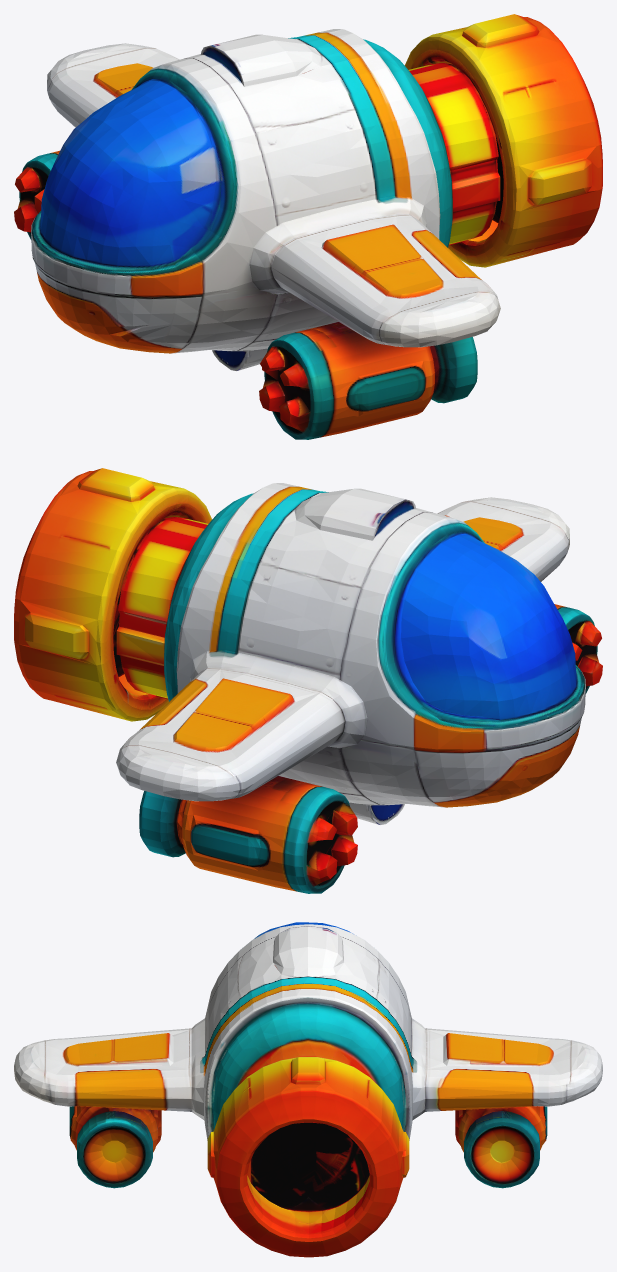
The model's file is Meshy_AI_Rainbow_Rocket_Ship_0703084711_texture.glb.
3 views of the same model, one above another, from view 1: azimuth 30°, elevation 25°; view 2: azimuth 150°, elevation 25°; view 3: azimuth 270°, elevation 25° (orthographic). The views are drawn at different scales.
Size of the model in its own units: 1.52 by 0.8924 by 1.91.
1 material, 1 textured.
